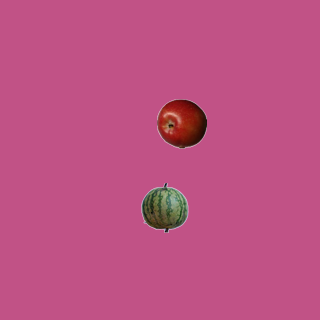Apple Braeburn: (156, 98, 206, 148)
Watermelon: (139, 182, 189, 232)
